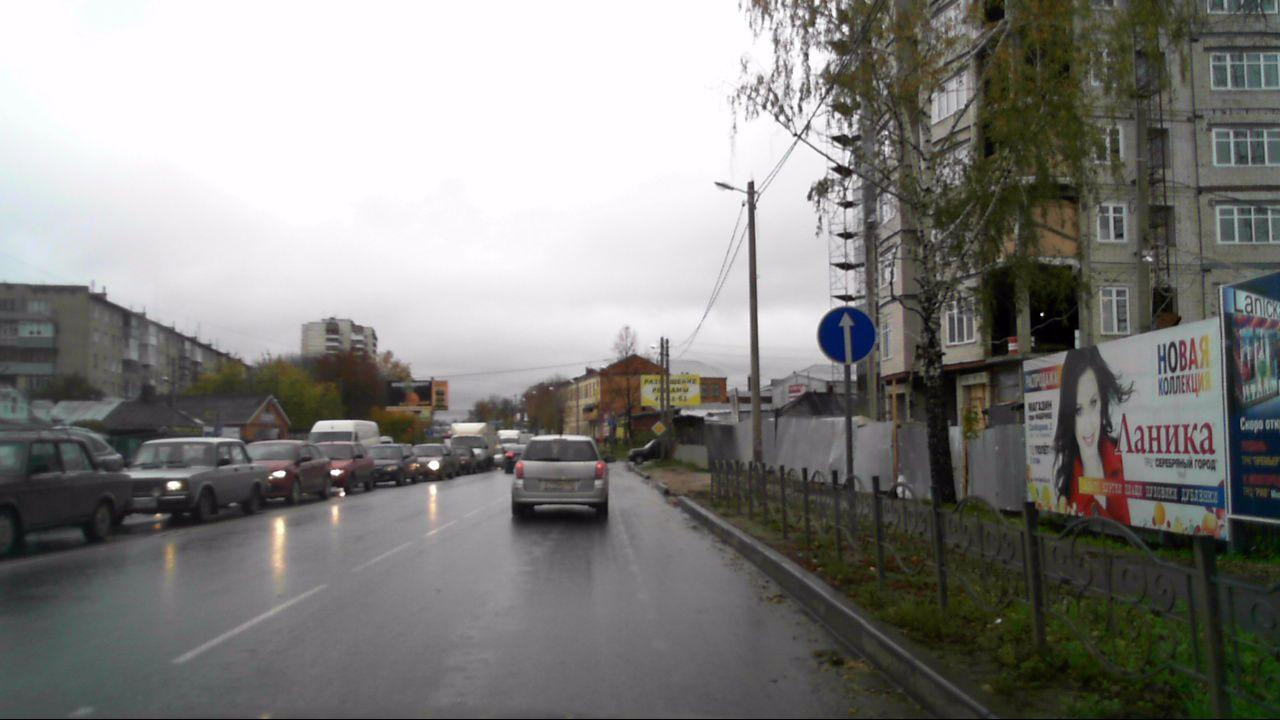4_1_1: (817, 306, 875, 365)
